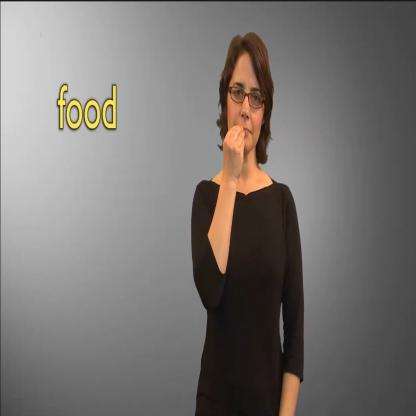Food: (211, 30, 280, 241)
